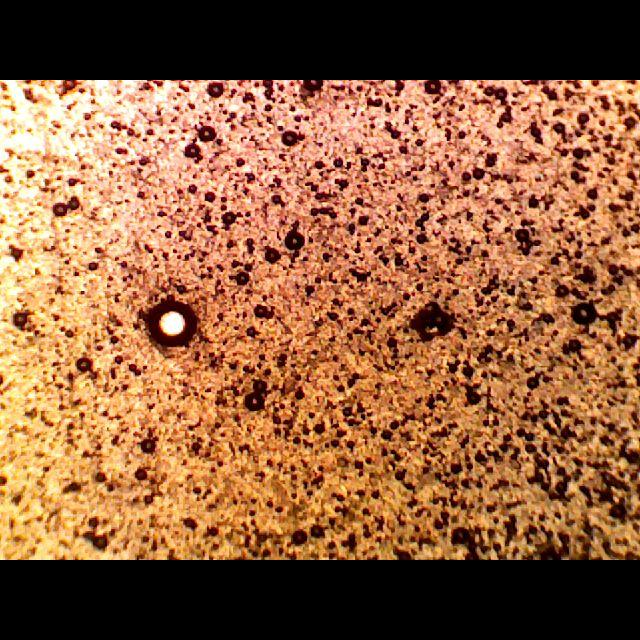microbeads: (142, 297, 202, 347)
